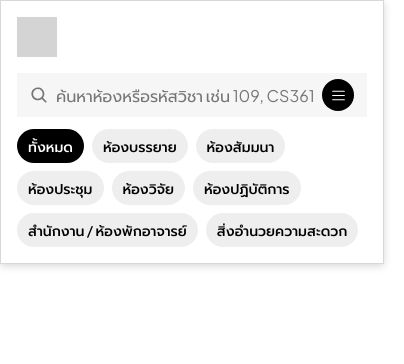
Test: RoomSearchPanel Component › collapses dropdown and retains query when a room is selected
Type "101" into the field with placeholder "ค้นหาห้องหรือรหัสวิชา เช่น 109, CS361".
click(185, 95); type("101")  # box [56, 74, 314, 116]
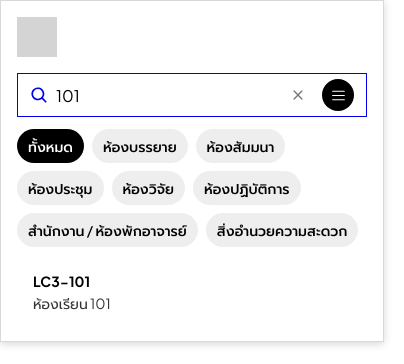
Expected: the list is shown
Click the button "LC3-101 ห้องเรียน 101".
click(62, 281)  # box [17, 259, 367, 325]
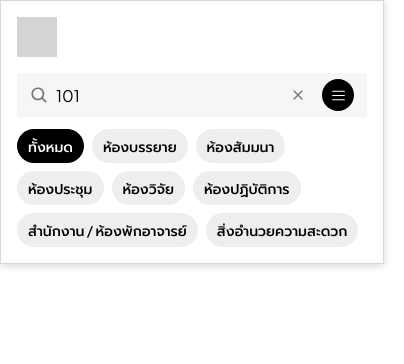
Expected: the list is gone
